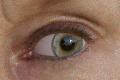eye: (54, 33, 84, 56)
